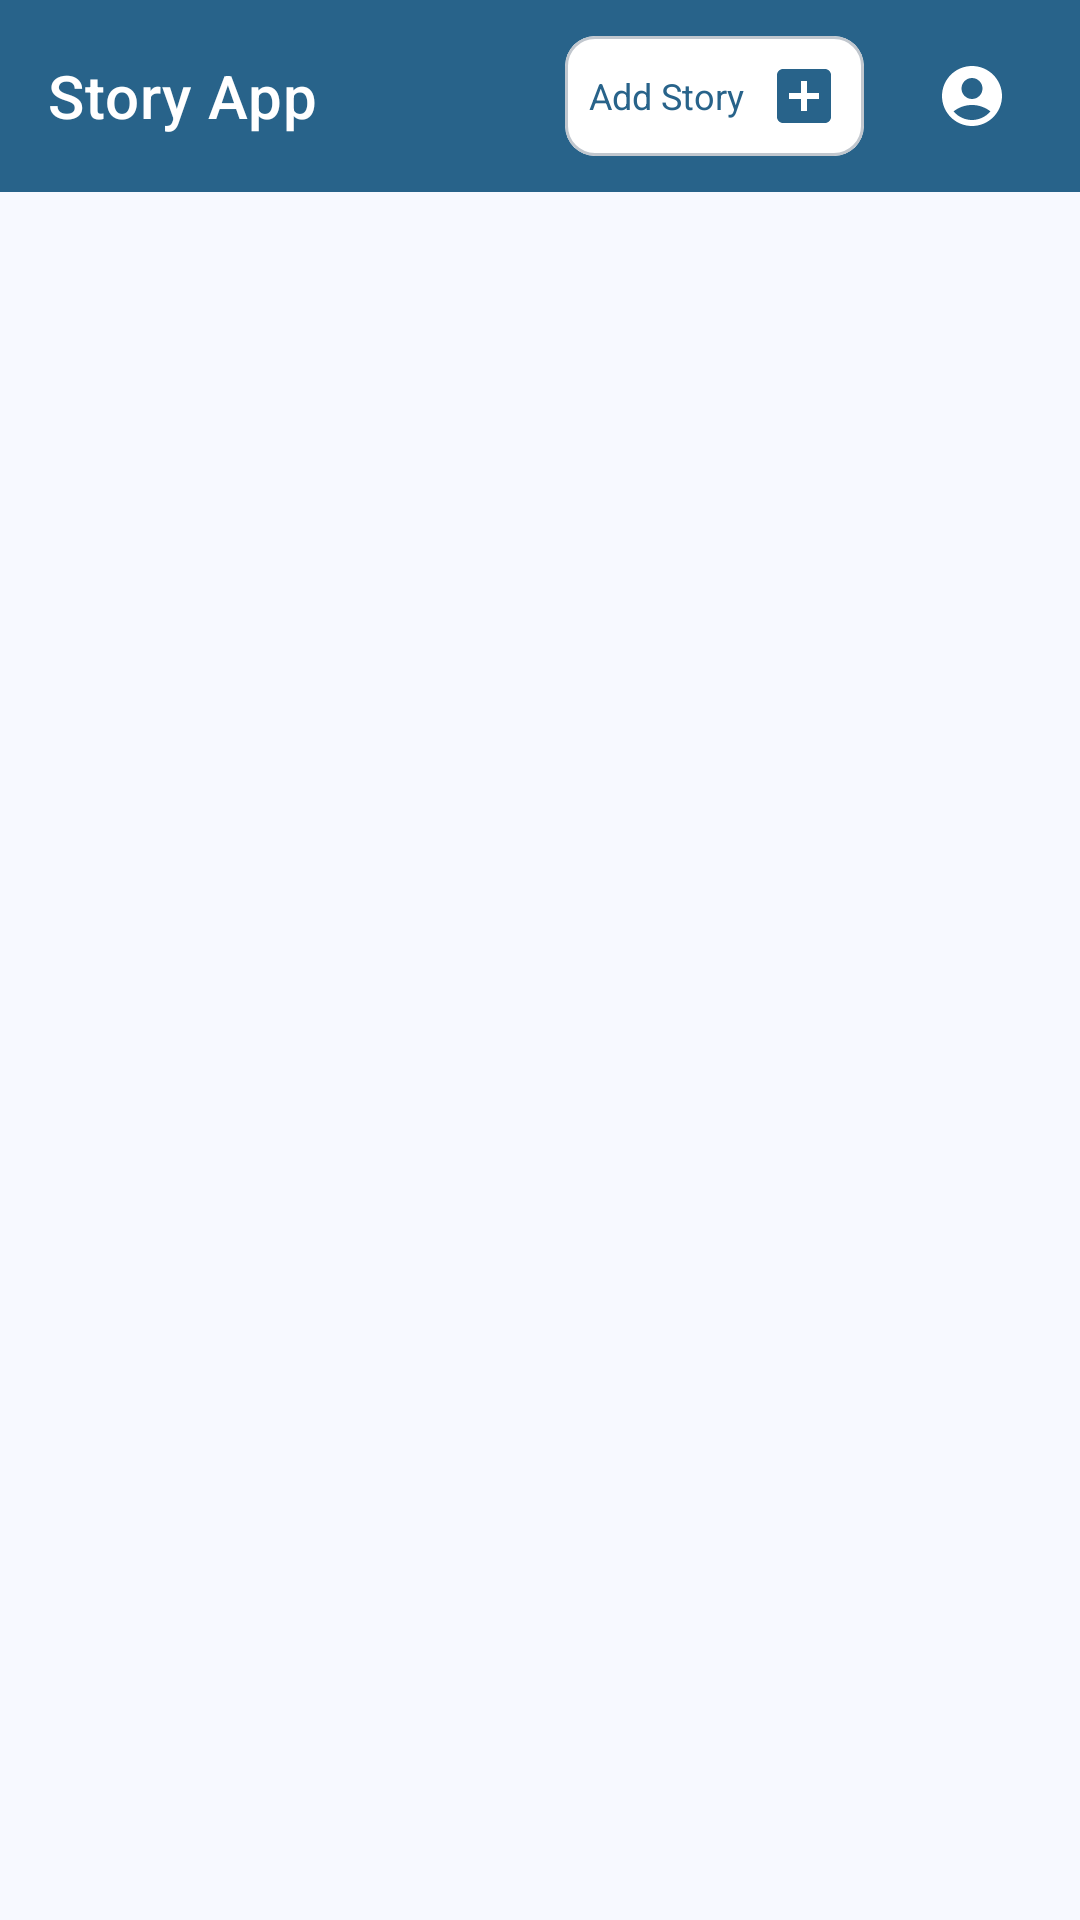

Point at icon controls on the screen. Image size 1080px x 1920px, points as [x,y].
Action Profile: [972,96]
add box: [804,96]
